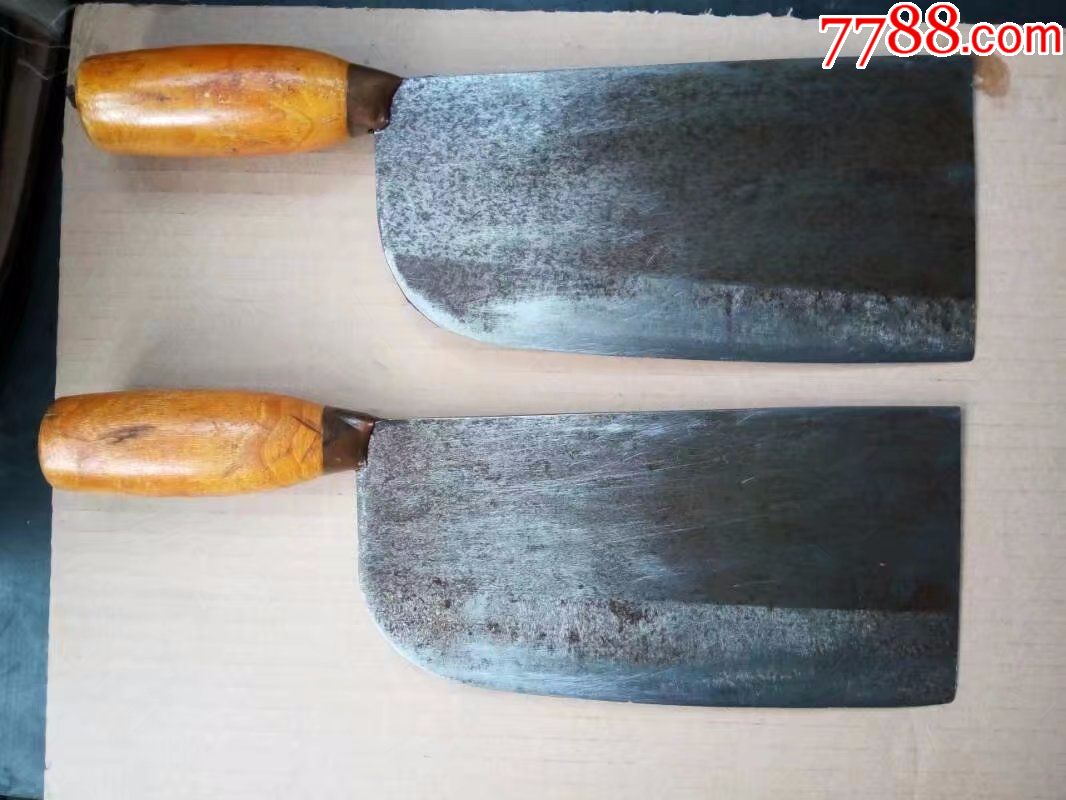knief: (50, 356, 995, 701)
